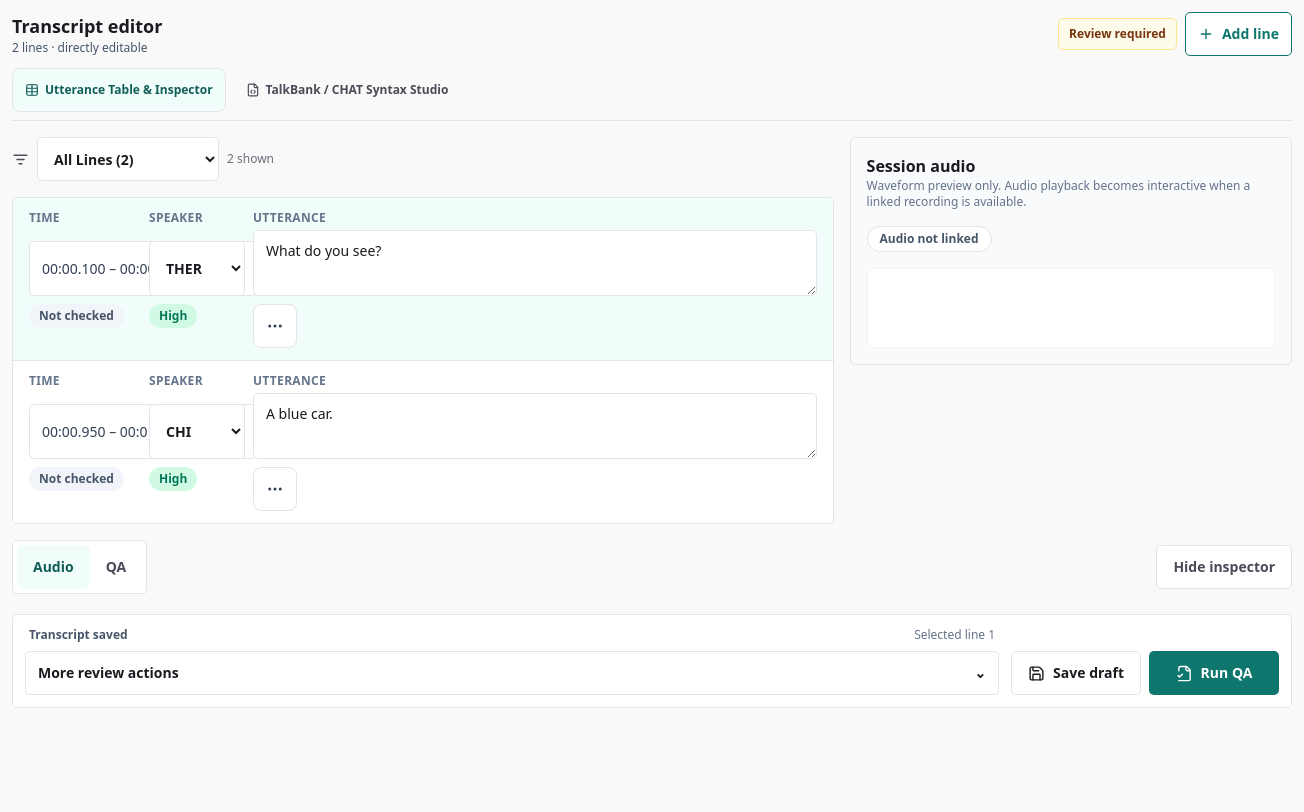
Scenario: TranscriptEditorPanel › keeps the mobile primary bar focused on save and QA while secondary review actions are collapsed
Expected: the button "Save draft" is shown, [1011, 651, 1141, 695]
Expected: the button "Run QA" is shown, [1149, 651, 1279, 695]
Click the text "More review actions" at {"x": 108, "y": 673}, box [38, 663, 179, 683]
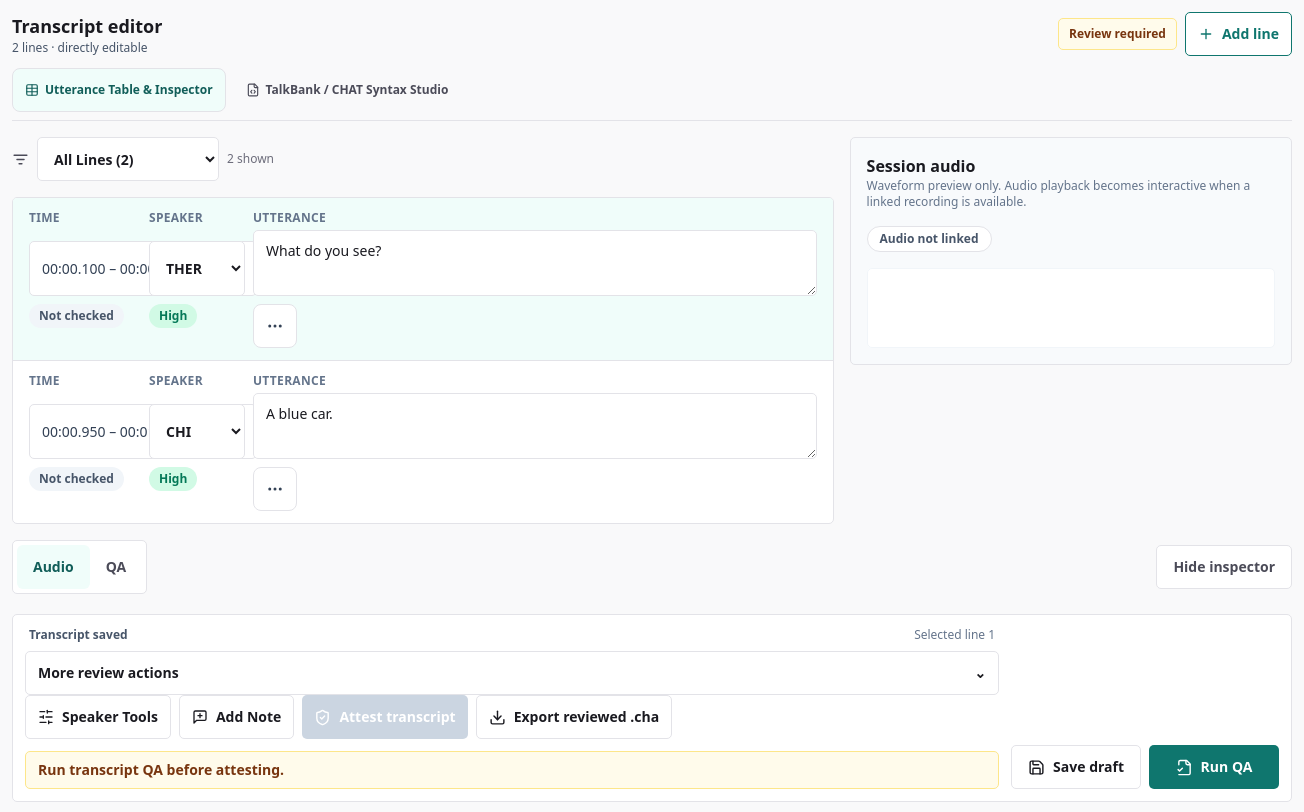
Now the button "Attest transcript" is shown, box [302, 695, 468, 739]
Now the button "Export reviewed .cha" is shown, box [476, 695, 672, 739]
